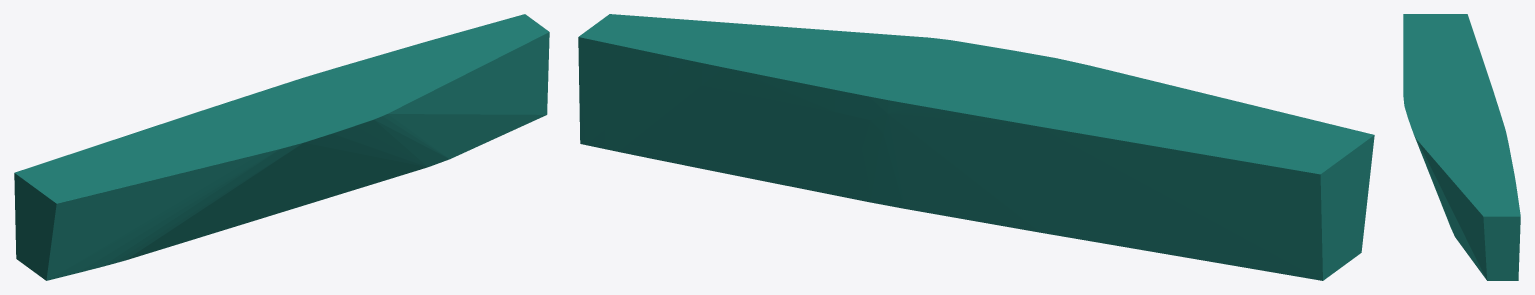
The picture shows the model from 3 angles, left to right: view 1: azimuth 30°, elevation 25°; view 2: azimuth 150°, elevation 25°; view 3: azimuth 270°, elevation 25°; orthographic projection. The views are drawn at different scales.
Size of the model in its own units: 0.0701 by 0.0104 by 0.0172.
